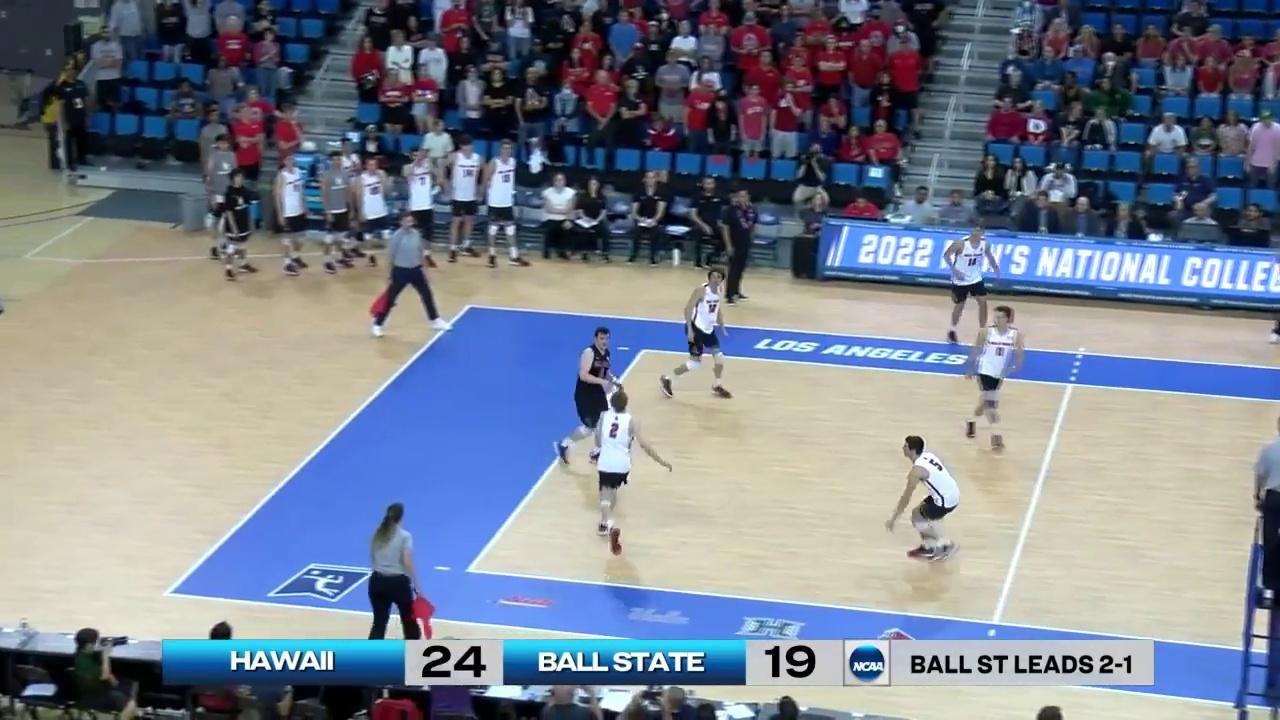player: (586, 393, 655, 557), (554, 328, 626, 466), (888, 437, 962, 560), (964, 309, 1026, 454), (667, 270, 735, 398), (944, 224, 992, 344)
refree: (364, 501, 434, 642), (372, 213, 442, 337), (1258, 411, 1280, 602)
